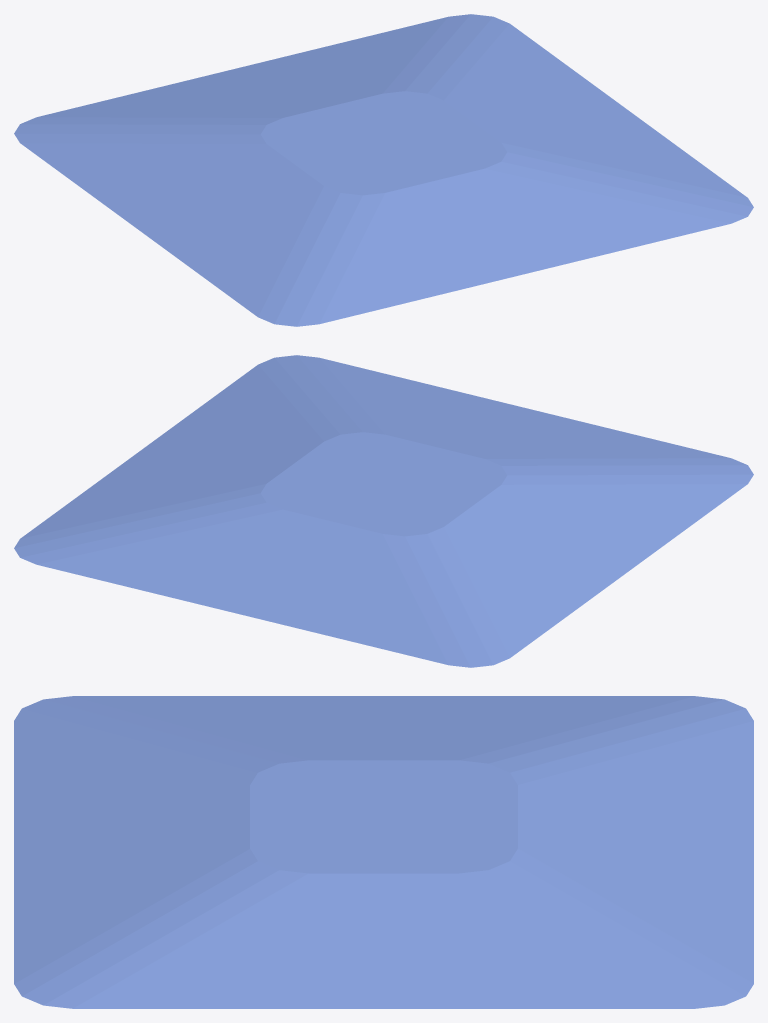
Rendered from Groung.fbx.
3 views of the same model, one above another, from view 1: azimuth 30°, elevation 25°; view 2: azimuth 150°, elevation 25°; view 3: azimuth 270°, elevation 25° (orthographic). The views are drawn at different scales.
Parts seen in each view (by area): view 1: Cube; view 2: Cube; view 3: Cube.
Boxes of the visible parts, x1,y1,x2,y2 form: Cube: (14, 14, 753, 326); Cube: (14, 355, 753, 667); Cube: (14, 696, 753, 1008).
Size of the model in its own units: 82.92 by 4.4 by 82.92.
